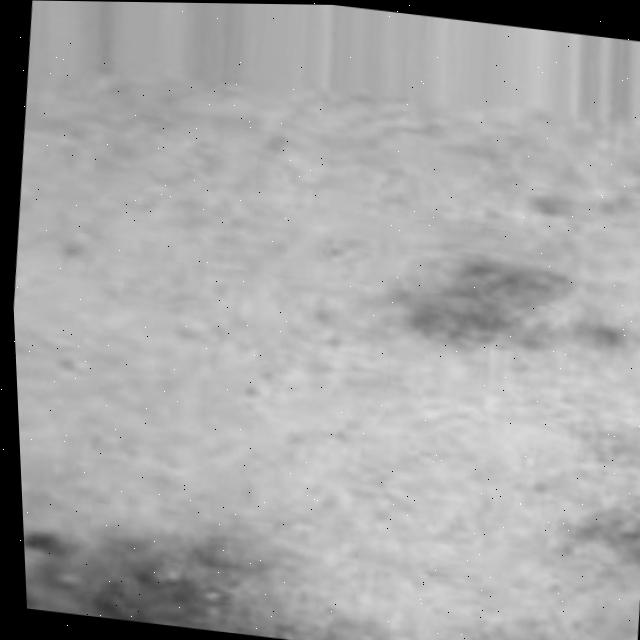Shingles: (22, 495, 590, 640), (391, 239, 640, 555)
